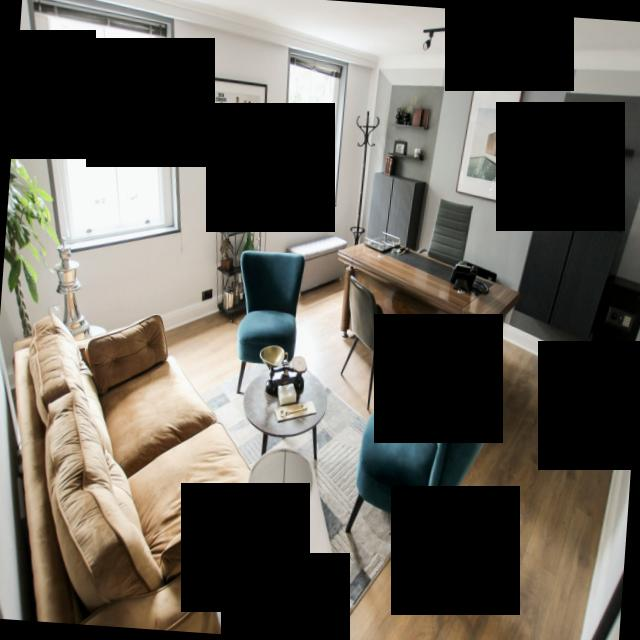vintage chair: (339, 336, 500, 588), (329, 270, 418, 410)
vintage desk: (240, 366, 334, 464)
vintage sofa: (0, 298, 270, 635)
